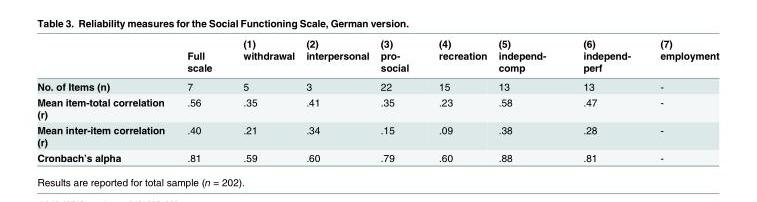table: (36, 37, 718, 163)
table column: (36, 37, 175, 163), (563, 37, 644, 163), (299, 37, 374, 163), (644, 37, 718, 163), (227, 37, 299, 163), (492, 37, 563, 163), (423, 37, 492, 163), (175, 37, 227, 163), (374, 37, 423, 163)
table column header: (36, 37, 718, 76)
table row: (36, 93, 718, 121), (36, 121, 718, 149), (36, 49, 718, 76), (36, 76, 718, 93), (36, 149, 718, 163), (36, 37, 718, 49)
table spanning cell: (563, 37, 644, 76), (299, 37, 374, 76), (644, 37, 718, 76), (227, 37, 299, 76), (492, 37, 563, 76), (423, 37, 492, 76), (175, 37, 227, 76), (374, 37, 423, 76)
